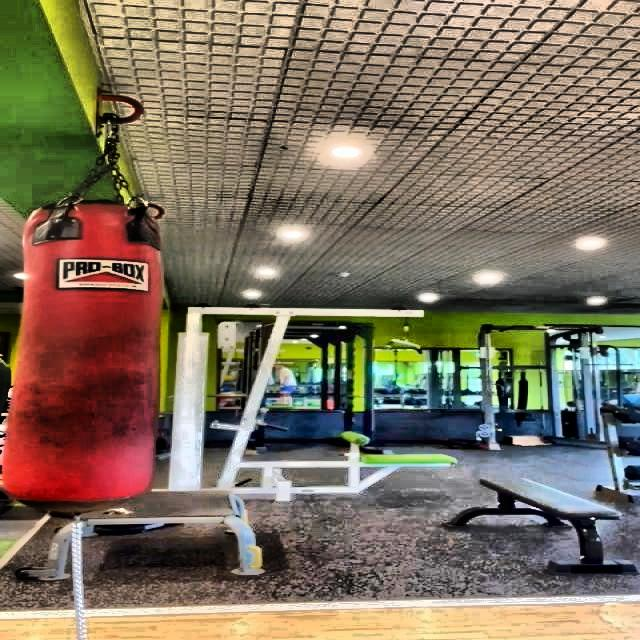boxing-bag: (11, 102, 162, 516)
